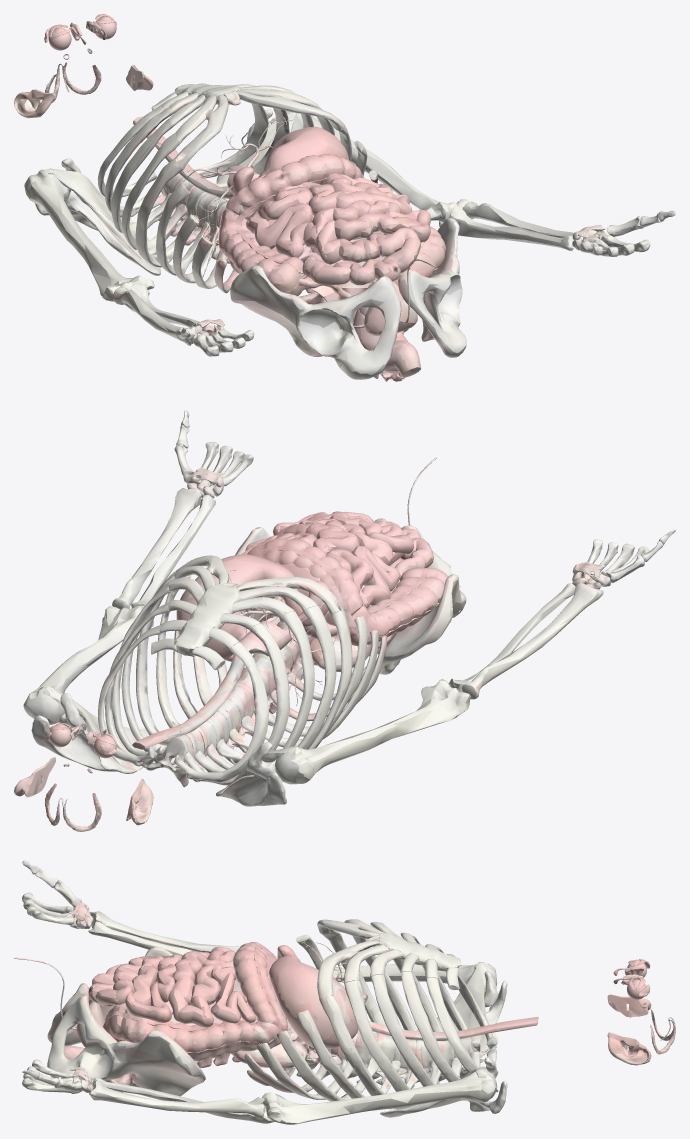
Rendered from internal-base-lux.glb.
The picture shows the model from 3 angles, top to bottom: view 1: azimuth 30°, elevation 25°; view 2: azimuth 150°, elevation 25°; view 3: azimuth 270°, elevation 25°; orthographic projection. The views are drawn at different scales.
Visible parts, largest first — view 1: FJ3152, FJ3288, FJ3368, FJ2572, FJ2566, FJ3262, FJ2564, FJ3286, FJ3384, FJ3344, FJ3342, FJ3346 (+29 smaller); view 2: FJ3368, FJ3262, FJ2566, FJ3152, FJ2564, FJ2572, FJ3349, FJ3279, FJ3338, FJ3384, FJ3178, FJ3344 (+28 smaller); view 3: FJ3288, FJ3262, FJ2567, FJ2564, FJ2572, FJ3277, FJ3233, FJ3232, FJ2811, FJ3231, FJ3234, FJ3235 (+33 smaller).
Part boxes in pixels (x1,y1,x2,y2): FJ3152: (230, 265, 401, 379); FJ3288: (398, 218, 466, 357); FJ3368: (24, 169, 154, 301); FJ2572: (226, 154, 364, 219); FJ2566: (219, 209, 304, 296); FJ3262: (291, 113, 469, 222); FJ2564: (258, 126, 349, 177); FJ3286: (439, 205, 573, 250); FJ3384: (34, 158, 160, 275); FJ3344: (121, 133, 187, 254); FJ3342: (111, 118, 172, 236); FJ3346: (135, 158, 199, 267); FJ3368: (275, 679, 470, 784); FJ3262: (23, 605, 153, 724); FJ2566: (347, 568, 447, 646); FJ3152: (379, 525, 466, 674); FJ2564: (176, 554, 298, 659); FJ2572: (247, 538, 363, 614); FJ3349: (462, 583, 603, 699); FJ3279: (31, 693, 160, 773); FJ3338: (173, 642, 268, 782); FJ3384: (216, 742, 286, 806); FJ3178: (174, 583, 239, 656); FJ3344: (206, 605, 336, 769); FJ3288: (47, 994, 205, 1096); FJ3262: (262, 1070, 497, 1124); FJ2567: (103, 1003, 283, 1061); FJ2564: (269, 955, 358, 1048); FJ2572: (233, 942, 287, 1030); FJ3277: (89, 1079, 264, 1118); FJ3233: (344, 980, 441, 1091); FJ3232: (371, 974, 461, 1086); FJ2811: (607, 994, 651, 1065); FJ3231: (401, 971, 480, 1082); FJ3234: (319, 995, 422, 1095); FJ3235: (296, 1010, 400, 1098).
Size of the model in its own units: 0.6478 by 0.2211 by 0.8602.
Materials: 1 (1 with a texture image).
